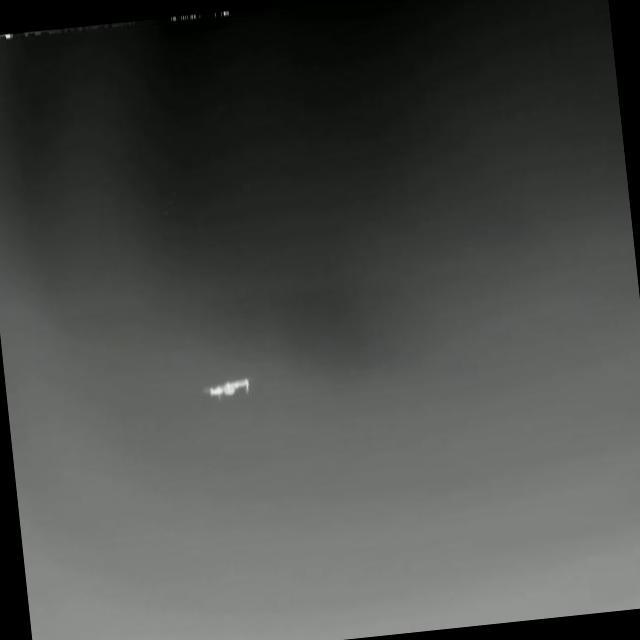DRONE: (188, 368, 260, 408)
